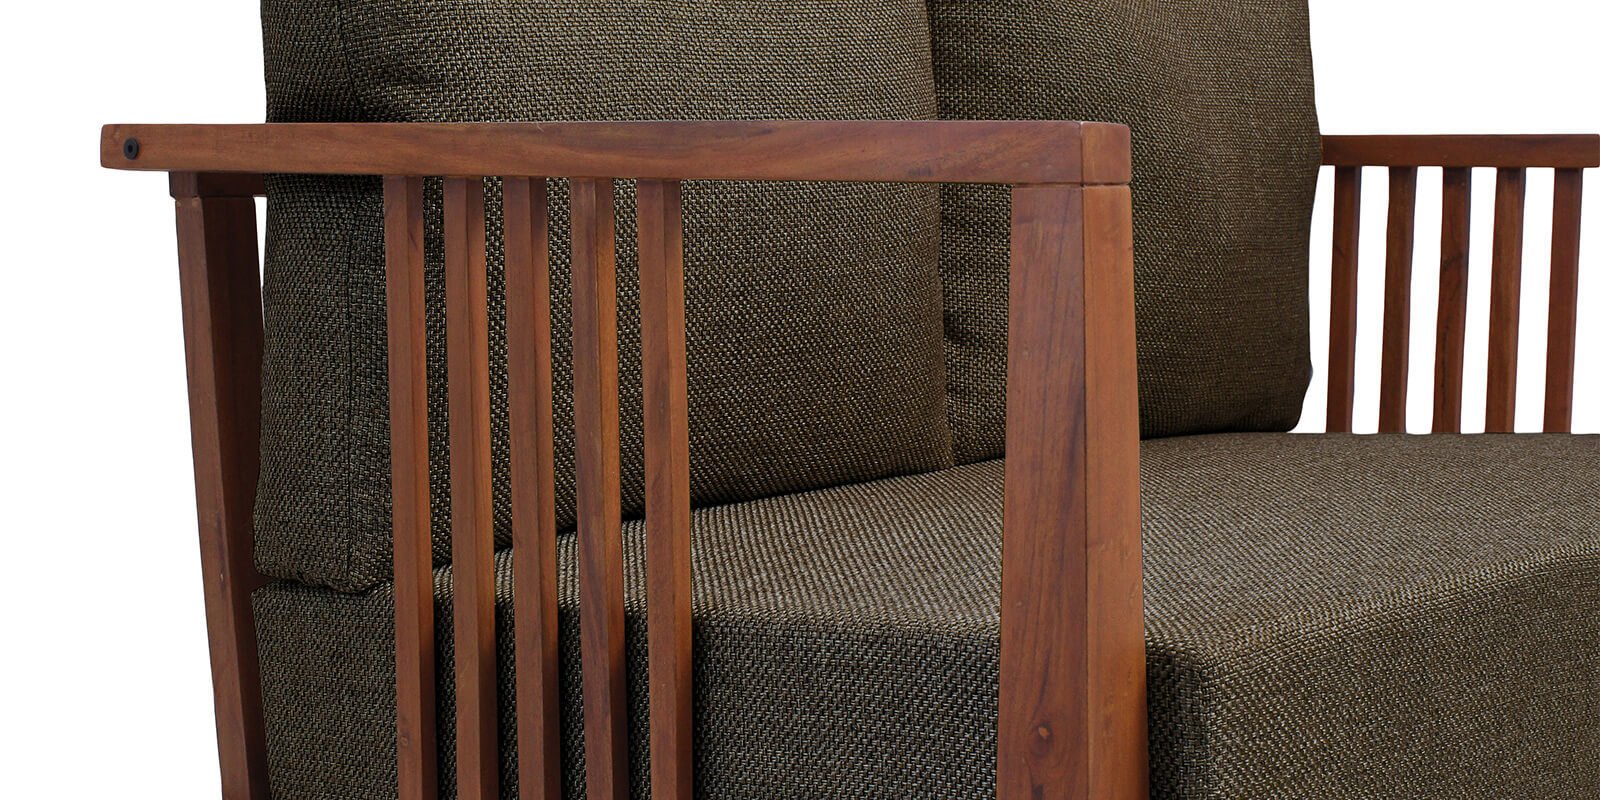Dijon Three Seater Sofa in Dark Brown Colour by Auspicious Home: (95, 6, 1594, 800)
